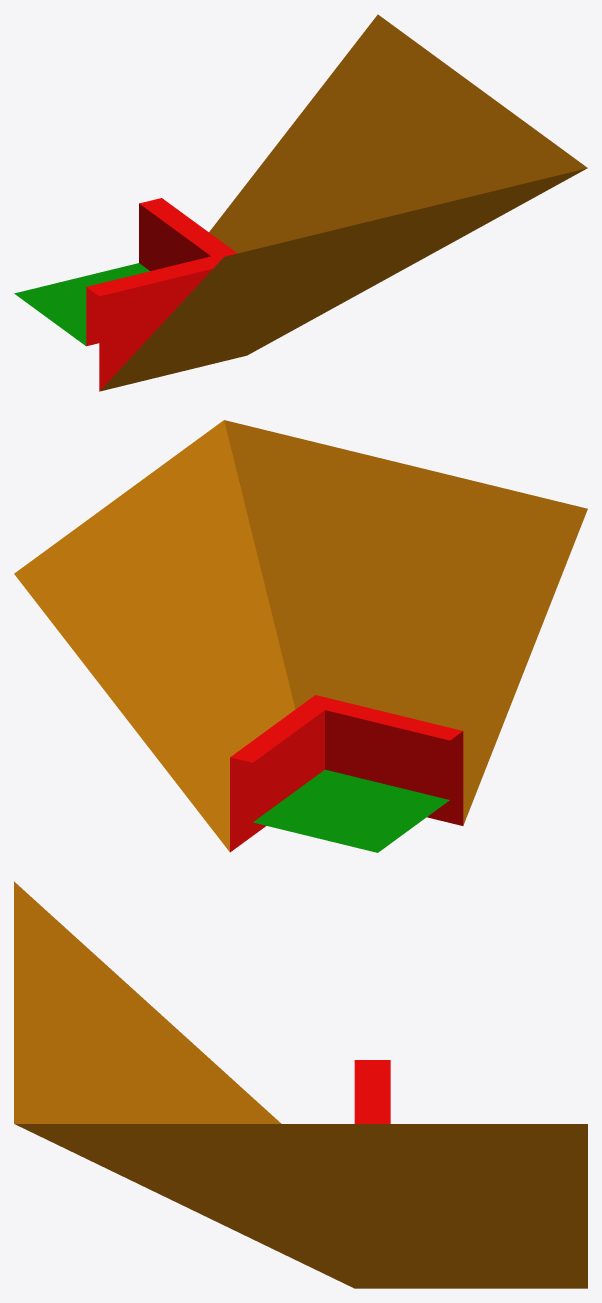
The picture shows the model from 3 angles, top to bottom: view 1: azimuth 30°, elevation 25°; view 2: azimuth 150°, elevation 25°; view 3: azimuth 270°, elevation 25°; orthographic projection. The views are drawn at different scales.
Parts seen in each view (by area): view 1: None_S_S_E_E_W_S_E_E_None; view 2: None_S_S_E_E_W_S_E_E_None; view 3: None_S_S_E_E_W_S_E_E_None.
Boxes of the visible parts, box(x1,y1,x2,y2) form: None_S_S_E_E_W_S_E_E_None: box(14, 14, 587, 391); None_S_S_E_E_W_S_E_E_None: box(14, 420, 587, 852); None_S_S_E_E_W_S_E_E_None: box(14, 881, 587, 1288).
Size of the model in its own units: 100 by 59.38 by 100.
